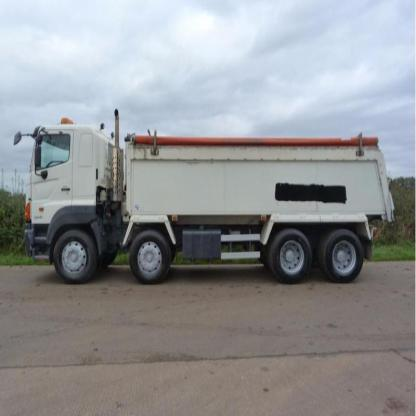dump_truck: (12, 99, 398, 304)
